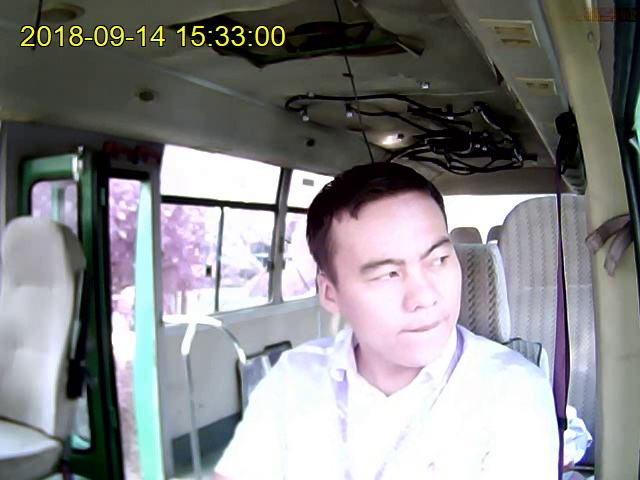closed_mouth: (397, 314, 452, 340)
open_eye: (369, 270, 404, 287), (428, 254, 454, 269)
